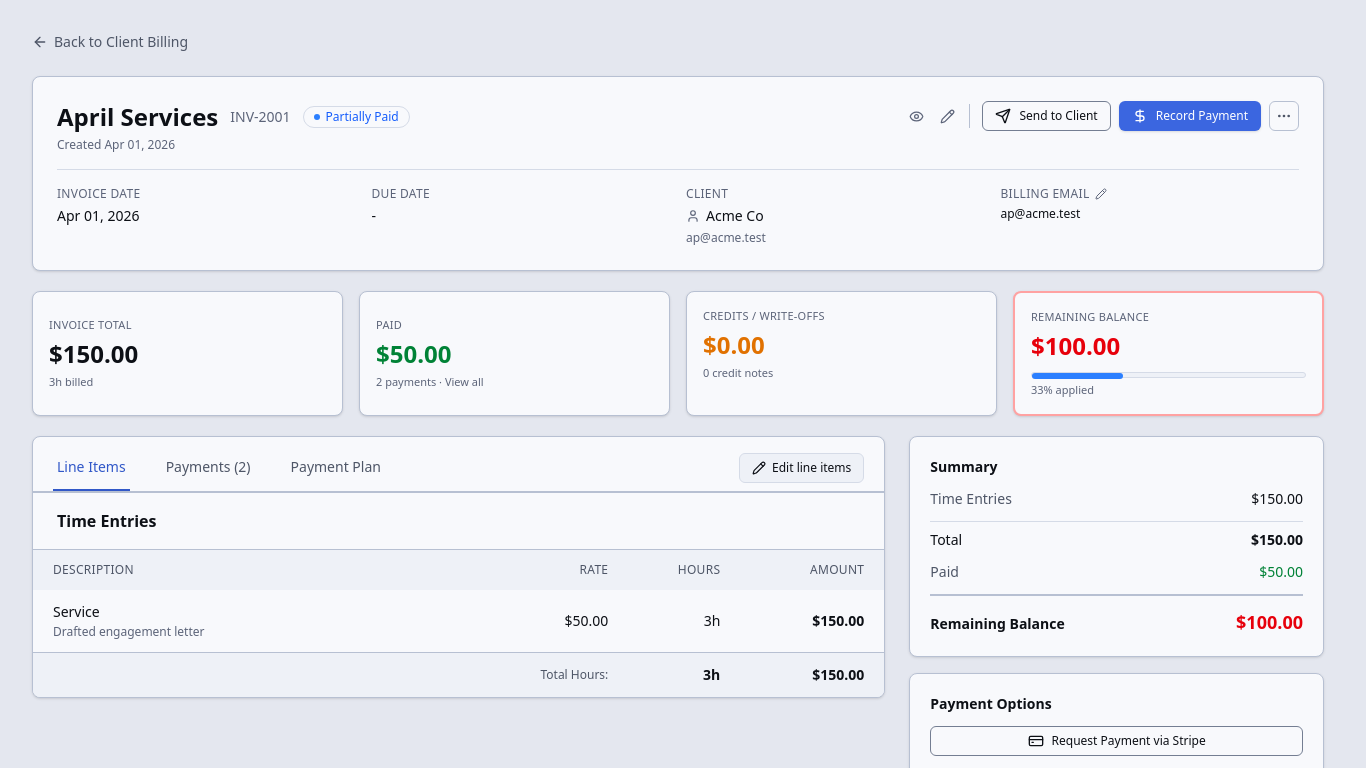
Scenario: a payment the client paid a processing fee on › shows the fee under the amount on the Payments tab
Click the button "Payments (2)".
click(208, 468)  # box [162,445,254,491]
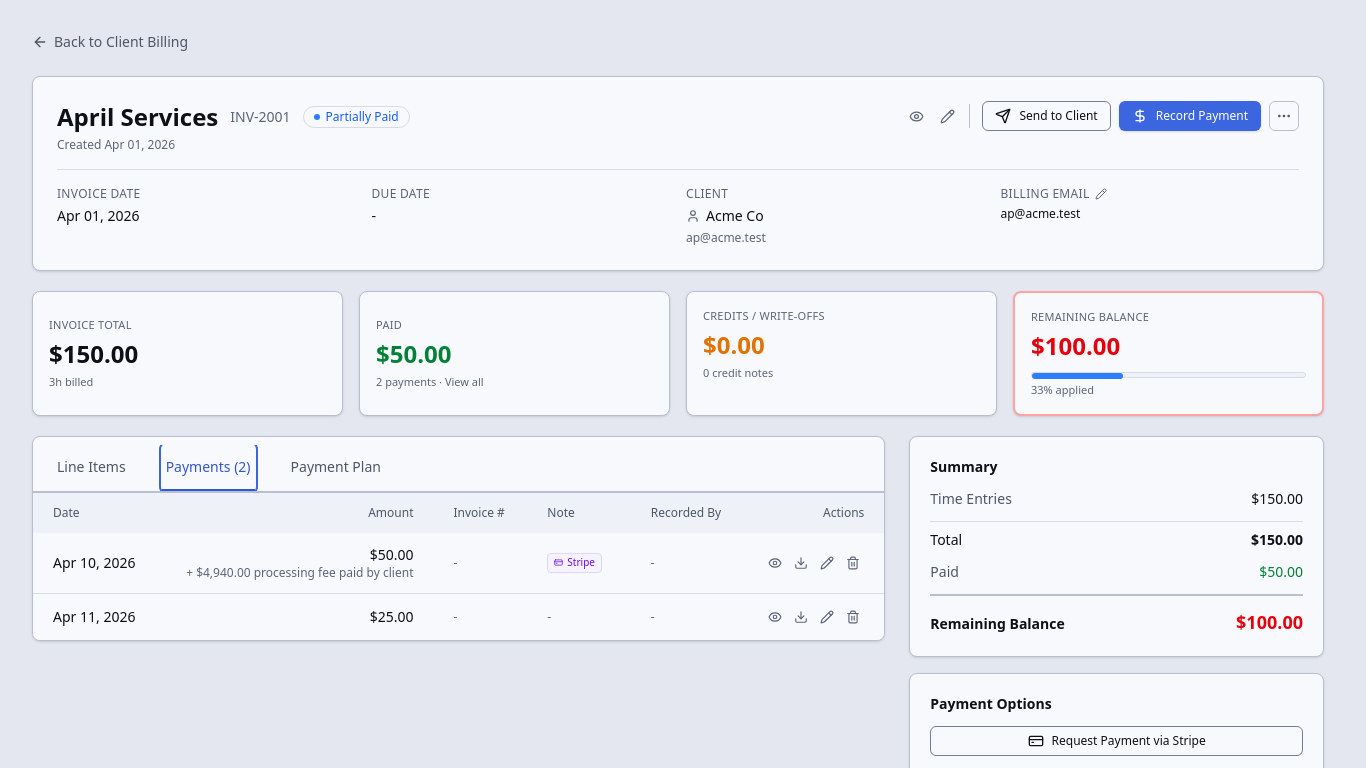
Check: the text "+ $4,940.00 processing fee paid by client" is shown once, box [179,565,414,581]
